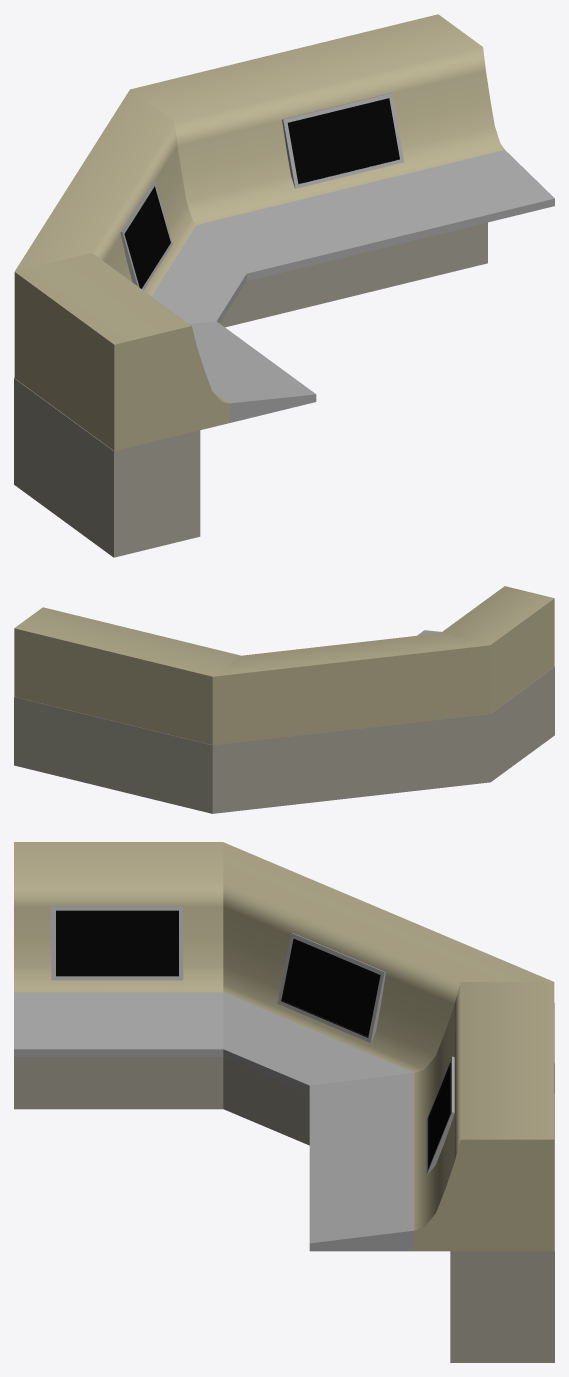
Rendered from Computer.fbx.
3 views of the same model, one above another, from view 1: azimuth 30°, elevation 25°; view 2: azimuth 150°, elevation 25°; view 3: azimuth 270°, elevation 25° (orthographic). The views are drawn at different scales.
Visible parts, largest first — view 1: right_top, left_top, right_counter, left_base, middle_top, right_base, left_screen (×2), left_counter, middle_counter, right_screen_frame3, middle_screen_frame2; view 2: middle_top, right_top, middle_base, right_base, left_top, left_base; view 3: right_top, middle_top, left_top, right_counter, left_screen (×3), left_counter, right_base, left_base, middle_counter, middle_base, left_screen_frame, middle_screen_frame2 (+1 smaller).
Part boxes in pixels (x1,y1,x2,y2): right_top: [130, 14, 504, 224]; left_top: [14, 253, 229, 450]; right_counter: [197, 150, 554, 280]; left_base: [14, 378, 200, 557]; middle_top: [15, 90, 196, 295]; right_base: [220, 222, 487, 327]; left_screen (×2): [124, 98, 399, 287]; left_counter: [189, 321, 316, 422]; middle_counter: [151, 225, 246, 323]; right_screen_frame3: [282, 93, 404, 188]; middle_screen_frame2: [120, 180, 172, 290]; middle_top: [212, 633, 490, 745]; right_top: [14, 607, 240, 744]; middle_base: [212, 714, 490, 813]; right_base: [14, 697, 212, 813]; left_top: [441, 586, 554, 713]; left_base: [490, 667, 554, 781]; right_top: [414, 982, 554, 1251]; middle_top: [223, 842, 554, 1093]; left_top: [14, 842, 223, 992]; right_counter: [309, 1073, 414, 1251]; left_screen (×3): [56, 910, 450, 1165]; left_counter: [14, 992, 223, 1056]; right_base: [450, 1093, 554, 1362]; left_base: [14, 1057, 223, 1109]; middle_counter: [223, 992, 413, 1093]; middle_base: [223, 1057, 309, 1145]; left_screen_frame: [51, 906, 183, 980]; middle_screen_frame2: [277, 933, 385, 1042].
Bounding box in the file's own units: 16.9 × 5.9 × 12.97.
